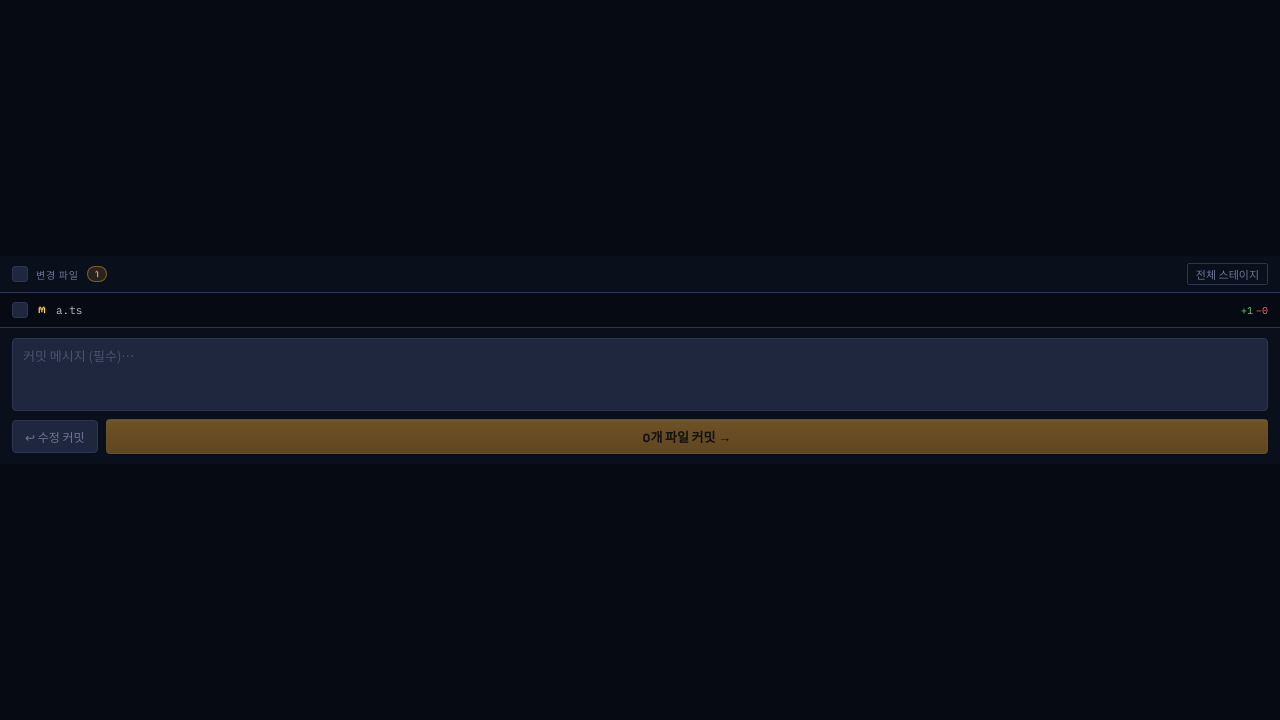
Test case: StageArea — 컨텍스트 메뉴 + discard 보존 › 우클릭 → 메뉴 표시, discard → ConfirmModal 노출
The image size is (1280, 720).
Right-click the text "a.ts" at (69, 310), box [56, 303, 82, 317]
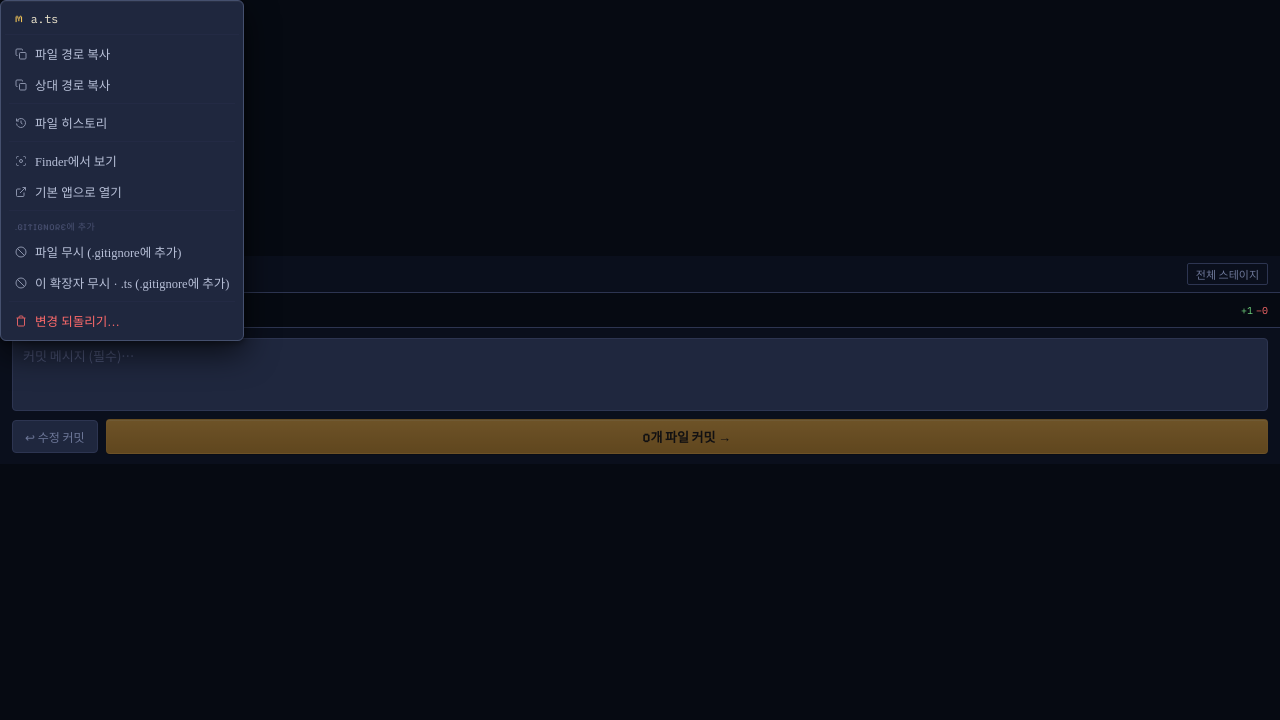
Press the mouse on the text "변경 되돌리기…" at (77, 322), box [35, 315, 120, 329]
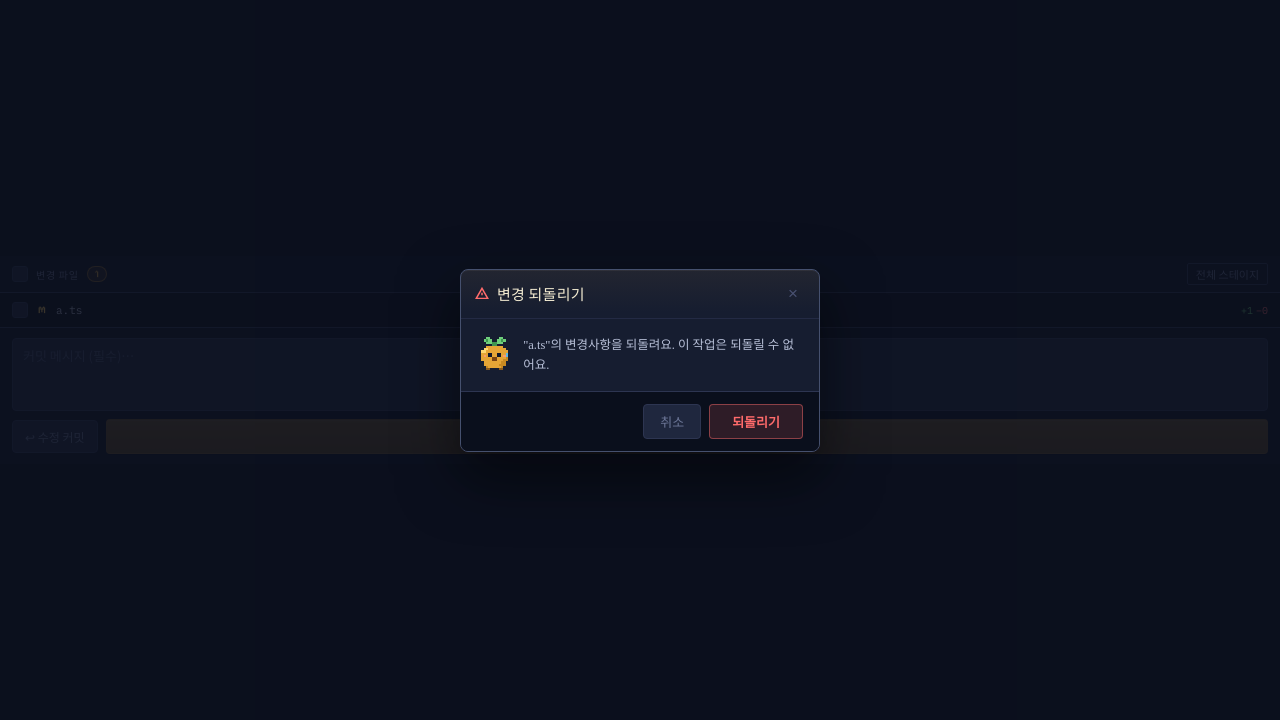
Now the text "\"a.ts\"의 변경사항을 되돌려요. 이 작업은 되돌릴 수 없어요." is shown, box [523, 334, 803, 374]
